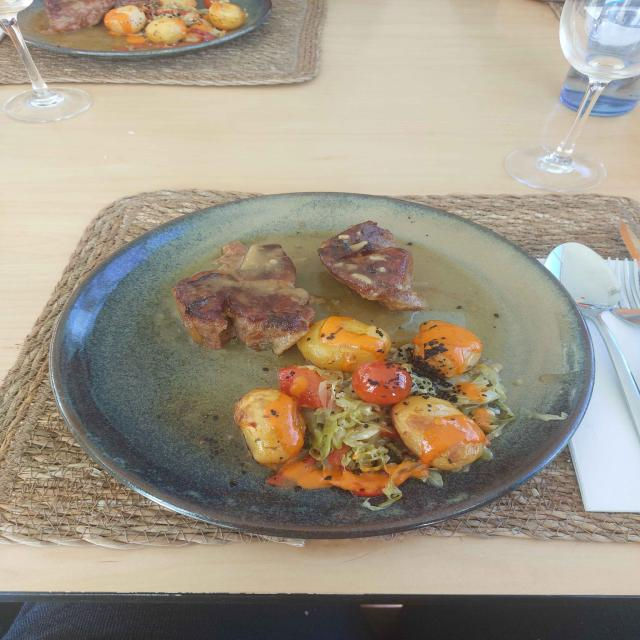baked potatoes: (391, 399, 489, 469), (234, 388, 305, 468), (298, 316, 391, 372), (411, 321, 482, 378)
fork: (607, 258, 640, 325)
pasta: (391, 346, 514, 439), (303, 368, 410, 474)
plate: (50, 193, 593, 539)
spoon: (545, 242, 640, 440)
stewed veal: (173, 241, 325, 355), (318, 221, 425, 310)
tomato: (350, 361, 412, 405), (278, 366, 342, 408)
